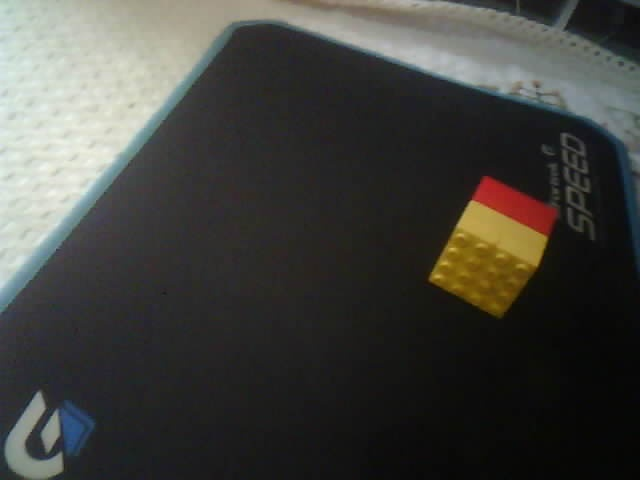lego: (425, 175, 558, 320)
